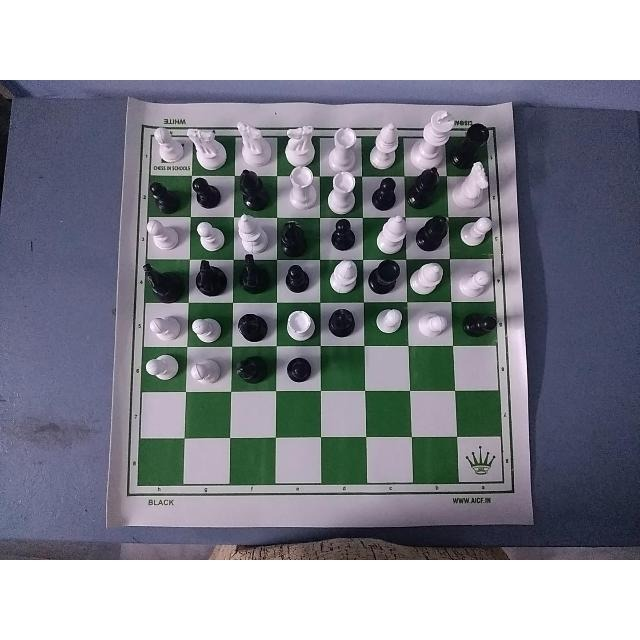black-bishop: (411, 207, 453, 252), (411, 169, 450, 209), (235, 307, 272, 348), (234, 351, 270, 389), (324, 301, 359, 339), (234, 168, 267, 208), (279, 215, 315, 251)
black-knight: (140, 251, 186, 305), (234, 253, 275, 297), (190, 256, 229, 297)
black-pawn: (282, 345, 324, 389), (459, 305, 507, 343), (191, 174, 231, 210), (146, 174, 183, 212), (369, 172, 405, 210), (326, 216, 359, 249), (280, 261, 311, 295)
black-rook: (367, 259, 403, 298), (460, 117, 492, 155)
white-bishop: (366, 120, 405, 168), (322, 253, 365, 296), (368, 215, 409, 257), (239, 211, 275, 250), (411, 259, 447, 294)
white-king: (409, 107, 457, 167)
white-knight: (449, 159, 499, 211), (231, 122, 274, 168), (185, 121, 223, 170), (283, 119, 319, 160)
white-pawn: (144, 123, 182, 163), (143, 351, 181, 387), (417, 306, 449, 348), (370, 300, 405, 336), (144, 311, 182, 343), (186, 311, 225, 342), (459, 262, 493, 296), (143, 220, 179, 252), (194, 216, 226, 251), (456, 216, 491, 248), (188, 356, 221, 387)
white-rook: (278, 164, 322, 210), (325, 171, 364, 213), (324, 124, 358, 168), (281, 309, 319, 341)
